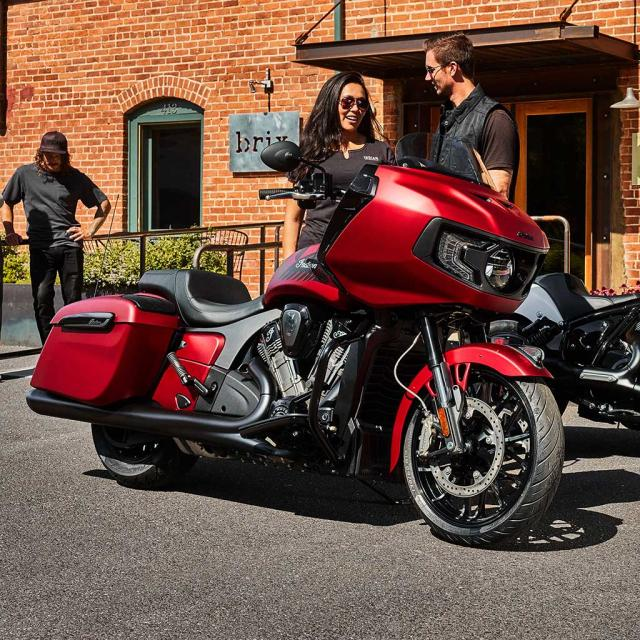motorcycle: (28, 136, 564, 546)
